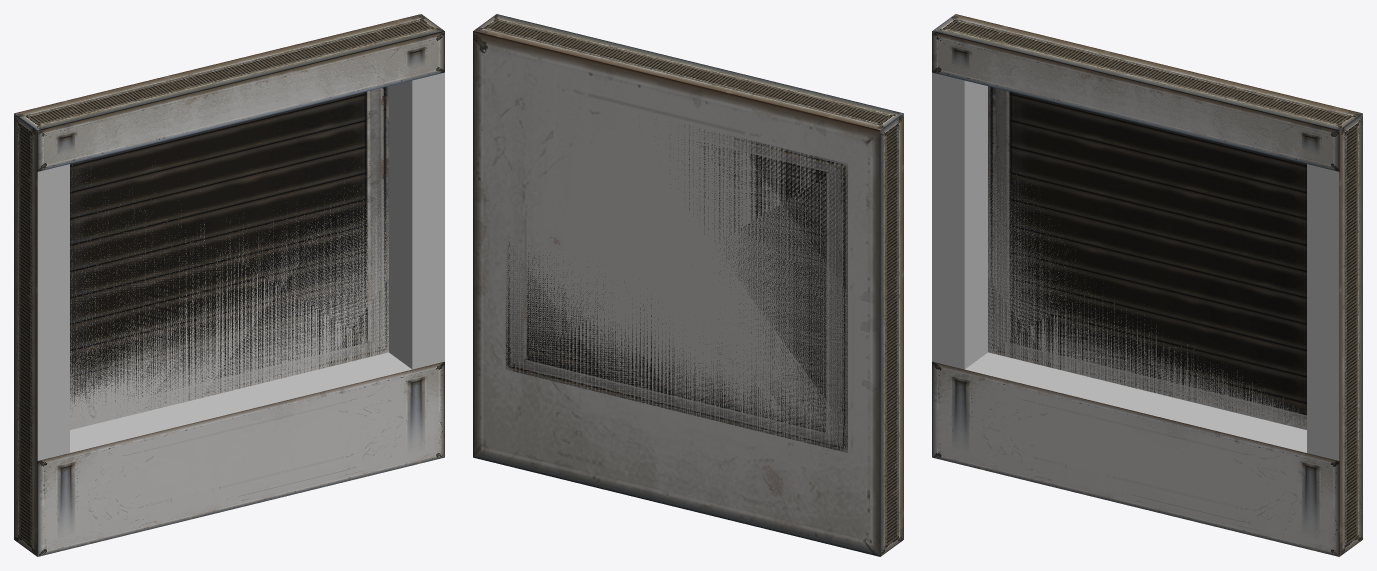
File: scifi_wall3_1.FBX
3 views of the same model, side by side, from view 1: azimuth 30°, elevation 25°; view 2: azimuth 150°, elevation 25°; view 3: azimuth 330°, elevation 25° (orthographic).
Parts seen in each view (by area): view 1: Plane015; view 2: Plane015; view 3: Plane015.
Boxes of the visible parts, x1=… form: Plane015: x1=14, y1=14, x2=444, y2=556; Plane015: x1=473, y1=14, x2=903, y2=556; Plane015: x1=932, y1=14, x2=1362, y2=556.
Size of the model in its own units: 254 by 254 by 25.4.
